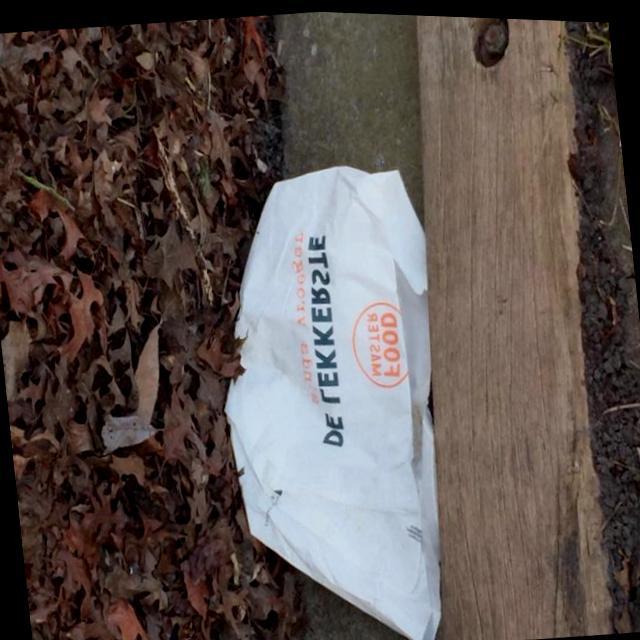Paper: (196, 147, 471, 640)
